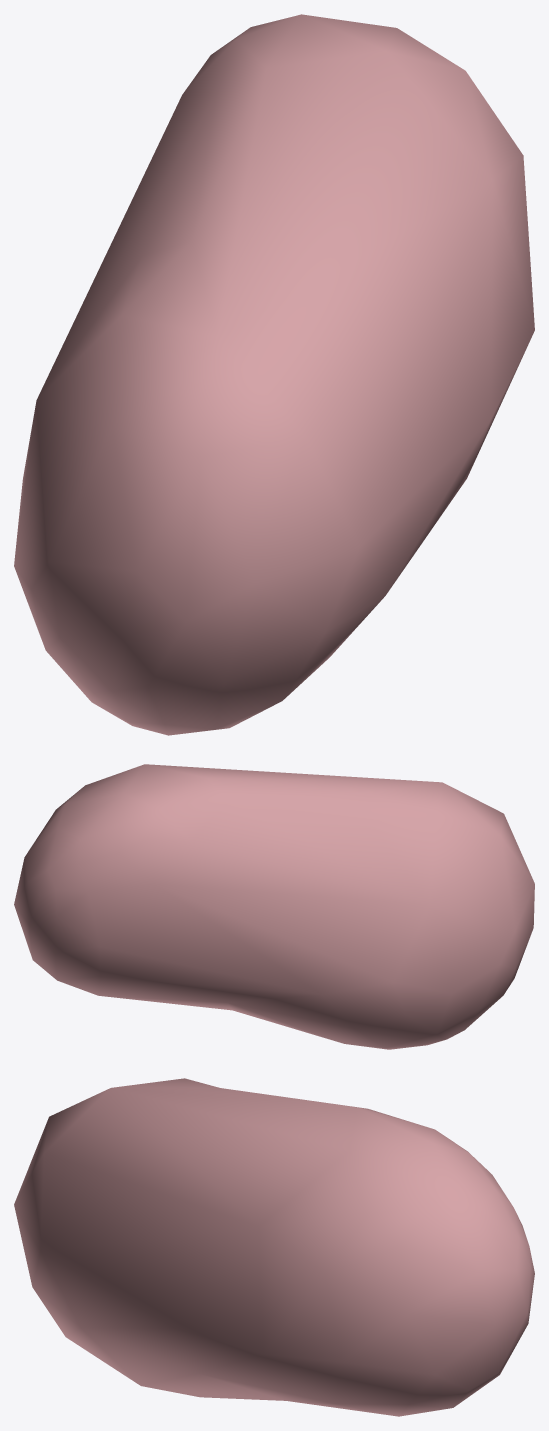
File: fma16982_fj2609.glb
3 renders of one model, top to bottom at view 1: azimuth 30°, elevation 25°; view 2: azimuth 150°, elevation 25°; view 3: azimuth 270°, elevation 25°, orthographic. The views are drawn at different scales.
Parts seen in each view (by area): view 1: FMA16982_FJ2609; view 2: FMA16982_FJ2609; view 3: FMA16982_FJ2609.
Part boxes in pixels (x1,y1,x2,y2): FMA16982_FJ2609: [14, 14, 534, 735]; FMA16982_FJ2609: [14, 764, 534, 1049]; FMA16982_FJ2609: [14, 1078, 534, 1416].
Size of the model in its own units: 0.0366 by 0.027 by 0.0376.
